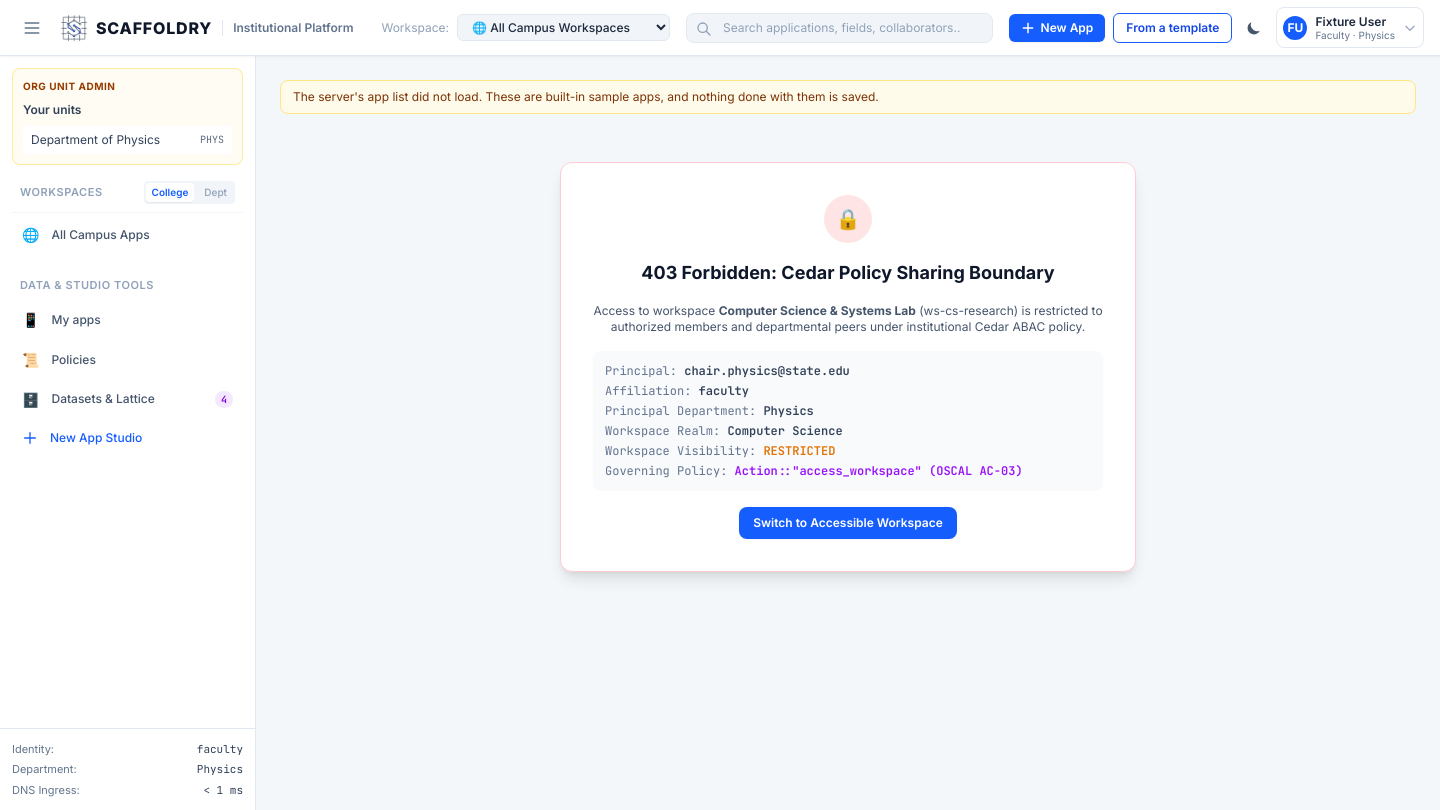
Test: Phase 4: Org Unit Admin Workspace Rail › fixture Org Unit Admin sees the rail and does not see admin-org-tab-btn
Check: the element with test id "unit-admin-rail" is shown, box x1=12 y1=68 x2=243 y2=165
Check: the text "Your units" is shown, box x1=23 y1=102 x2=81 y2=117
Note: Selecting a unit reveals New workspace button
Step 1. Click the button with test id "unit-rail-PHYS" → (128, 140), box x1=23 y1=126 x2=232 y2=154
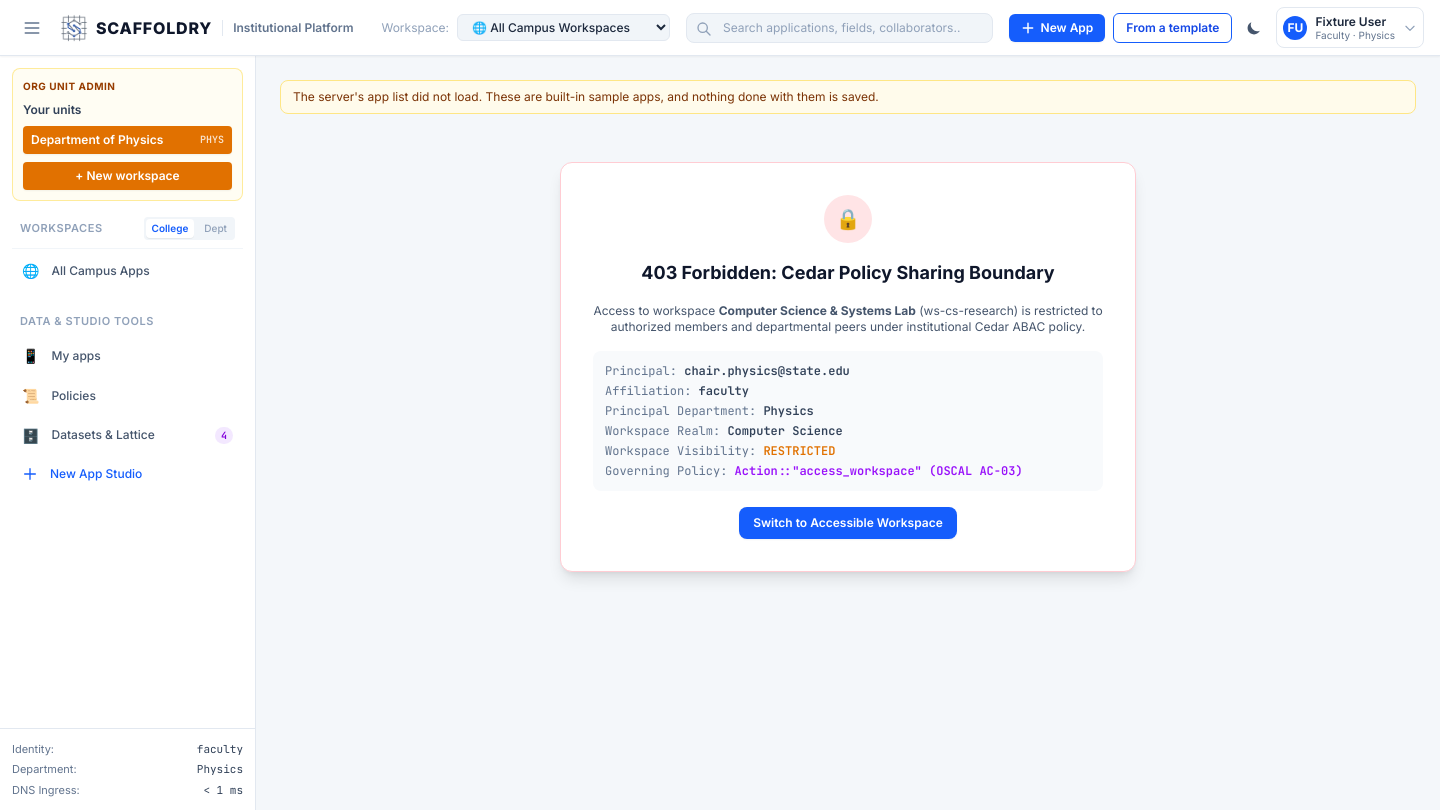
Check: the button with test id "unit-new-workspace-btn" is shown, box x1=23 y1=162 x2=232 y2=190
